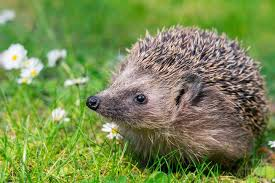hedgehog: (79, 26, 268, 169)
